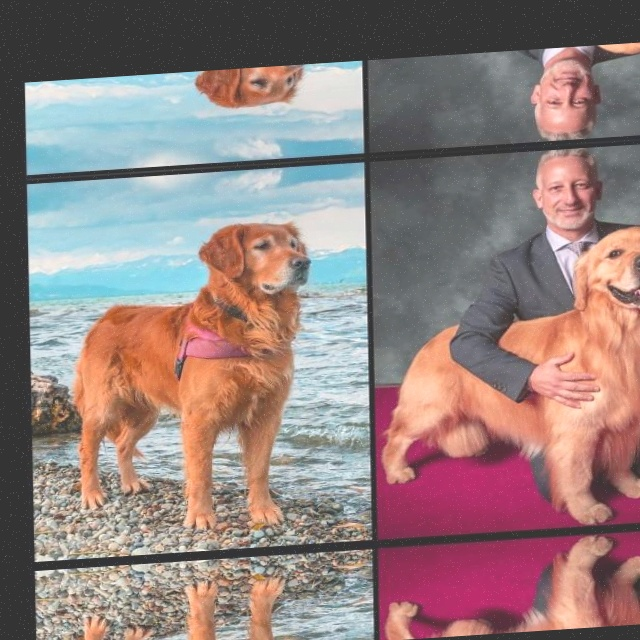dog: (45, 206, 330, 542), (395, 231, 640, 500), (52, 571, 333, 640), (42, 63, 322, 131), (402, 564, 640, 640)
person: (480, 140, 622, 302), (478, 44, 619, 149)
